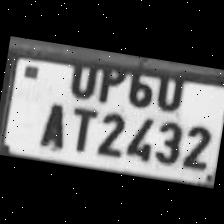0: (151, 62, 191, 110)
2: (90, 104, 130, 158), (178, 118, 216, 171)
3: (149, 114, 186, 166)
4: (120, 108, 158, 161)
6: (120, 60, 157, 108)
A: (31, 93, 72, 150)
P: (92, 56, 128, 105)
T: (61, 98, 100, 154)
U: (62, 49, 103, 99)
